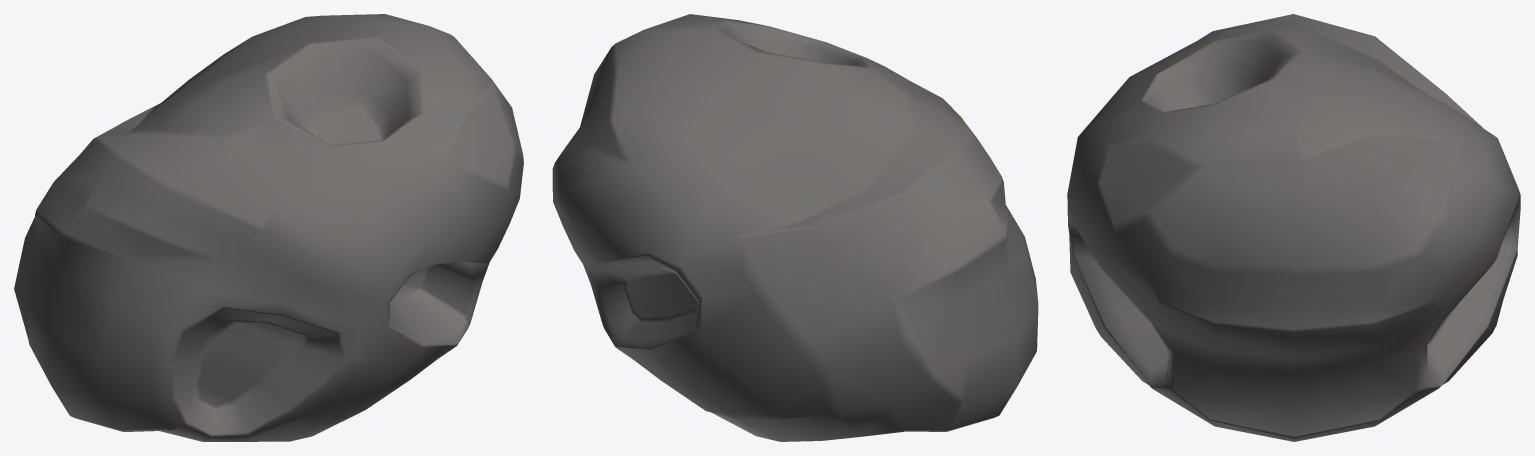
The model's file is _Meteorite_01.fbx.
The picture shows the model from 3 angles, left to right: view 1: azimuth 30°, elevation 25°; view 2: azimuth 150°, elevation 25°; view 3: azimuth 270°, elevation 25°; orthographic projection. The views are drawn at different scales.
Parts seen in each view (by area): view 1: Meteorite_01; view 2: Meteorite_01; view 3: Meteorite_01.
Boxes of the visible parts, box(x1,y1,x2,y2) form: Meteorite_01: box(14, 14, 523, 441); Meteorite_01: box(552, 14, 1038, 441); Meteorite_01: box(1067, 14, 1520, 441).
Bounding box in the file's own units: 206 × 157 × 172.
1 material, 1 textured.
